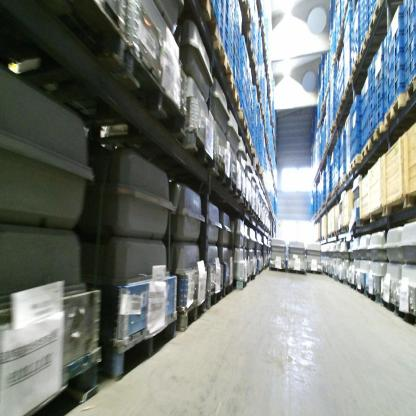pallet: (125, 48, 186, 140), (49, 2, 126, 70), (104, 315, 179, 384), (29, 342, 102, 411), (171, 124, 214, 174), (177, 294, 211, 335), (369, 1, 398, 35), (199, 2, 221, 44), (385, 93, 408, 129), (213, 41, 233, 81), (358, 33, 387, 60), (369, 122, 396, 147), (205, 284, 225, 312), (226, 78, 241, 112), (344, 77, 368, 98), (212, 163, 231, 189), (351, 56, 373, 77), (339, 90, 361, 110), (237, 0, 252, 28), (377, 293, 395, 315), (228, 178, 242, 204), (237, 107, 249, 137), (395, 305, 415, 323), (333, 108, 354, 123), (361, 141, 375, 162), (244, 31, 253, 61), (406, 79, 416, 105), (223, 280, 234, 301), (244, 127, 253, 152), (350, 154, 362, 172), (365, 289, 380, 303), (327, 123, 348, 132), (329, 131, 344, 143), (334, 42, 346, 57), (232, 277, 247, 289), (287, 267, 307, 276), (258, 19, 266, 40), (250, 153, 259, 171), (340, 10, 348, 30), (267, 265, 287, 273), (325, 141, 338, 151), (356, 285, 367, 296), (332, 55, 344, 65), (247, 210, 259, 220), (328, 63, 337, 76), (238, 191, 247, 204), (252, 58, 257, 81), (256, 164, 264, 178), (337, 277, 348, 287), (306, 268, 324, 274), (255, 82, 260, 101), (340, 175, 347, 188), (349, 282, 358, 292), (333, 227, 342, 237), (322, 93, 330, 104), (247, 199, 253, 213), (346, 170, 354, 180), (259, 97, 263, 117), (256, 268, 264, 278), (320, 103, 328, 113), (334, 181, 340, 194), (345, 0, 352, 11), (251, 144, 255, 163), (325, 272, 333, 281), (256, 217, 263, 227), (338, 34, 344, 45), (333, 272, 339, 283), (320, 201, 326, 211), (335, 1, 340, 11), (250, 271, 255, 281), (326, 193, 331, 202), (327, 82, 331, 93), (331, 188, 335, 198), (245, 274, 250, 281)
small_load_carrier: (217, 24, 229, 64), (390, 17, 405, 48), (392, 52, 406, 79), (392, 71, 406, 97), (405, 51, 416, 83), (218, 15, 229, 46), (402, 18, 413, 47), (393, 37, 405, 62), (403, 35, 414, 62), (374, 79, 384, 107), (375, 62, 384, 91), (376, 101, 386, 127), (219, 3, 229, 28), (375, 45, 384, 72), (384, 70, 393, 96), (361, 108, 370, 133), (367, 93, 375, 119), (383, 42, 392, 65), (404, 4, 413, 26), (384, 86, 393, 108), (361, 94, 369, 118), (384, 57, 392, 80), (368, 57, 374, 86), (212, 2, 220, 23), (367, 114, 375, 134), (360, 81, 368, 101), (368, 75, 374, 100), (361, 126, 369, 144), (220, 1, 230, 15), (403, 0, 412, 12)
